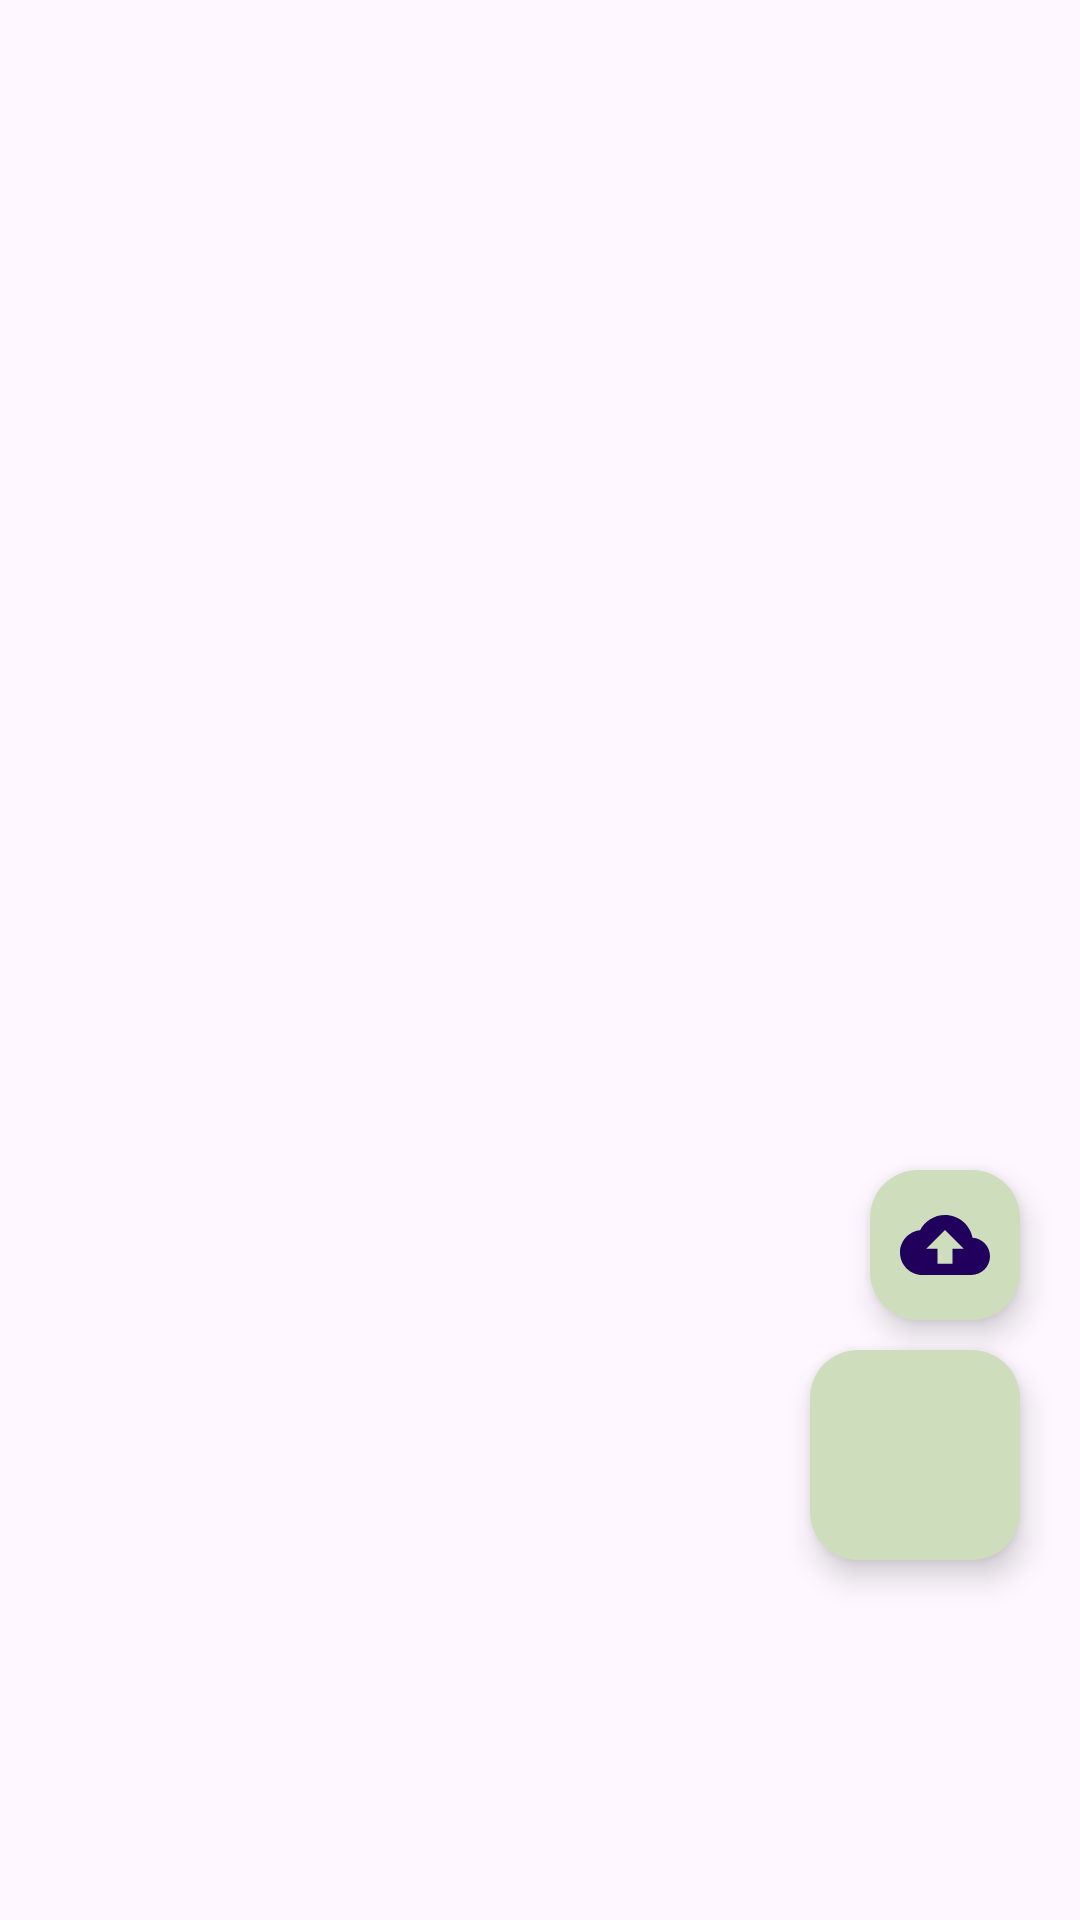

Icons on this 1080px×1920px Android screen, each with the point to tap as point (x, y):
backup: point (945, 1245)
